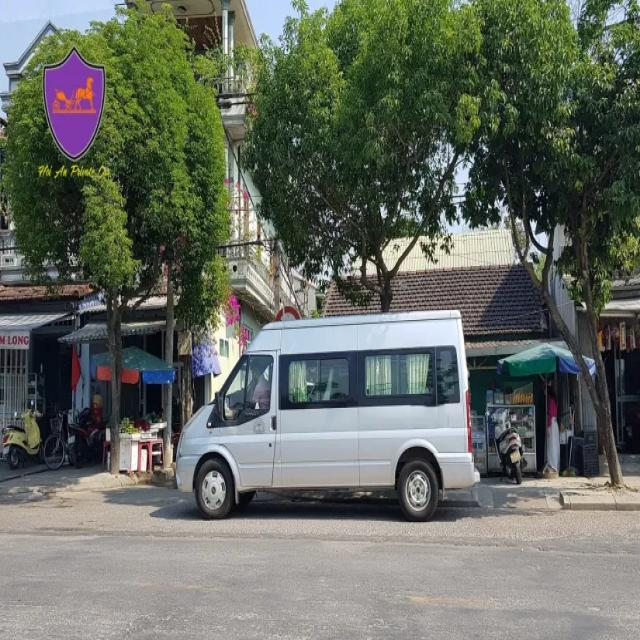car: (154, 304, 501, 532)
